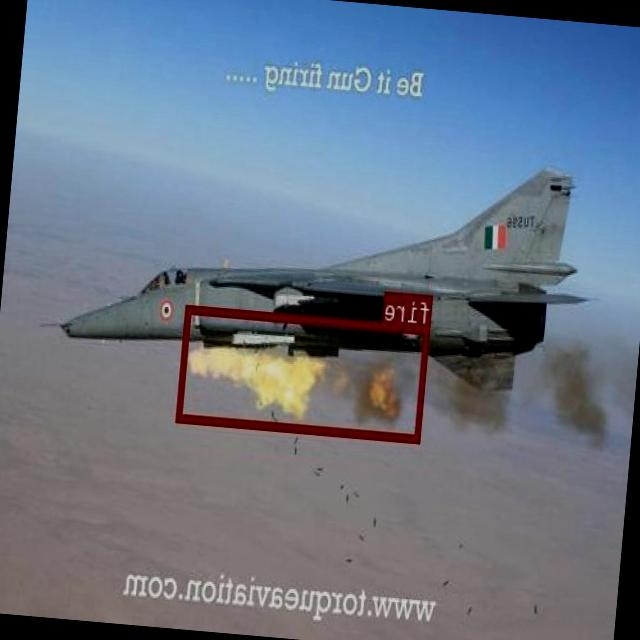fire: (178, 303, 430, 441)
